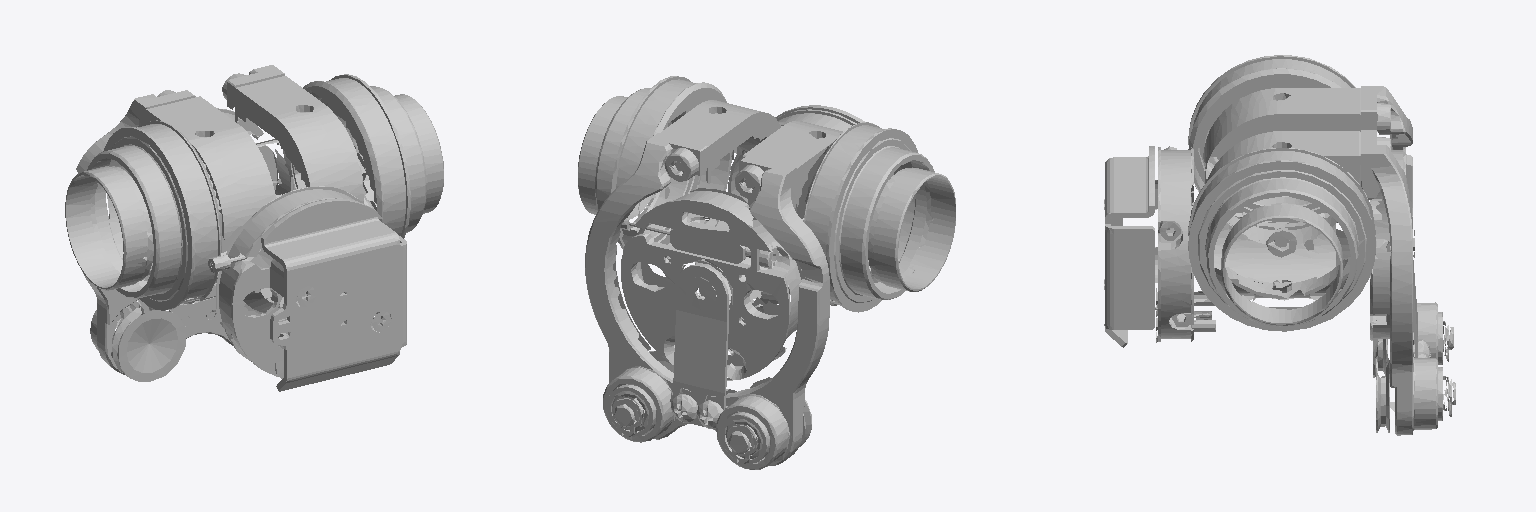
File: sim_ecub_head_neck_2.obj
The picture shows the model from 3 angles: view 1: azimuth 30°, elevation 25°; view 2: azimuth 150°, elevation 25°; view 3: azimuth 270°, elevation 25°; orthographic projection.
Size of the model in its own units: 62.17 by 54.82 by 59.15.